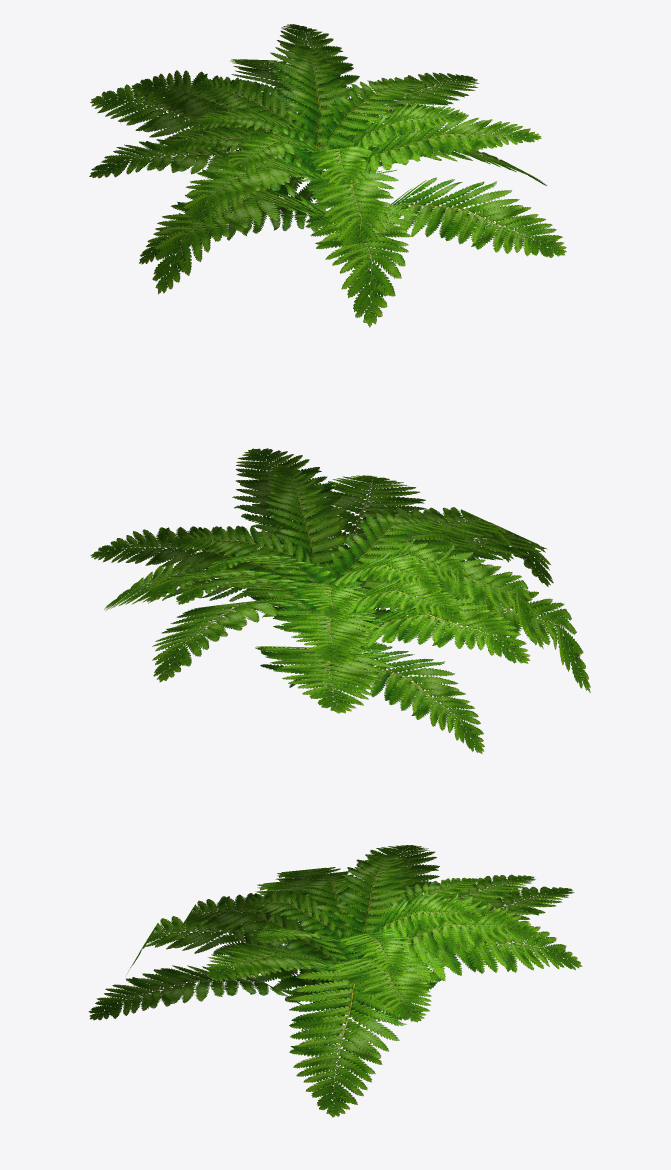
The model's file is 3D_ENV_BIO_FERN.FBX.
3 views of the same model, one above another, from view 1: azimuth 30°, elevation 25°; view 2: azimuth 150°, elevation 25°; view 3: azimuth 270°, elevation 25° (orthographic). The views are drawn at different scales.
Visible parts, largest first — view 1: Fern Large; view 2: Fern Large; view 3: Fern Large.
Part boxes in pixels (box(x1,y1,x2,y2)): Fern Large: box(89, 24, 566, 327); Fern Large: box(90, 448, 590, 753); Fern Large: box(88, 845, 582, 1117).
Size of the model in its own units: 533 by 193 by 643.
